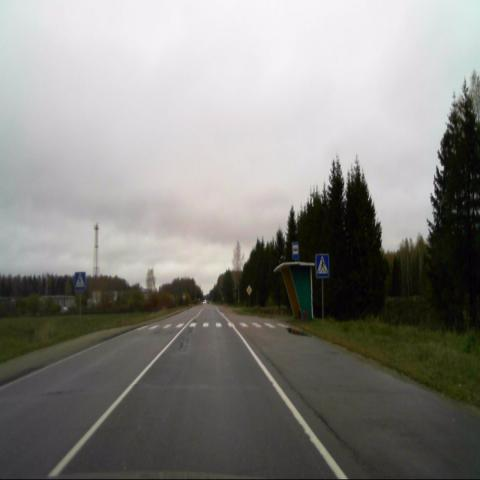5_16: (291, 241, 299, 260)
5_19_1: (315, 253, 330, 278), (74, 271, 86, 292)
